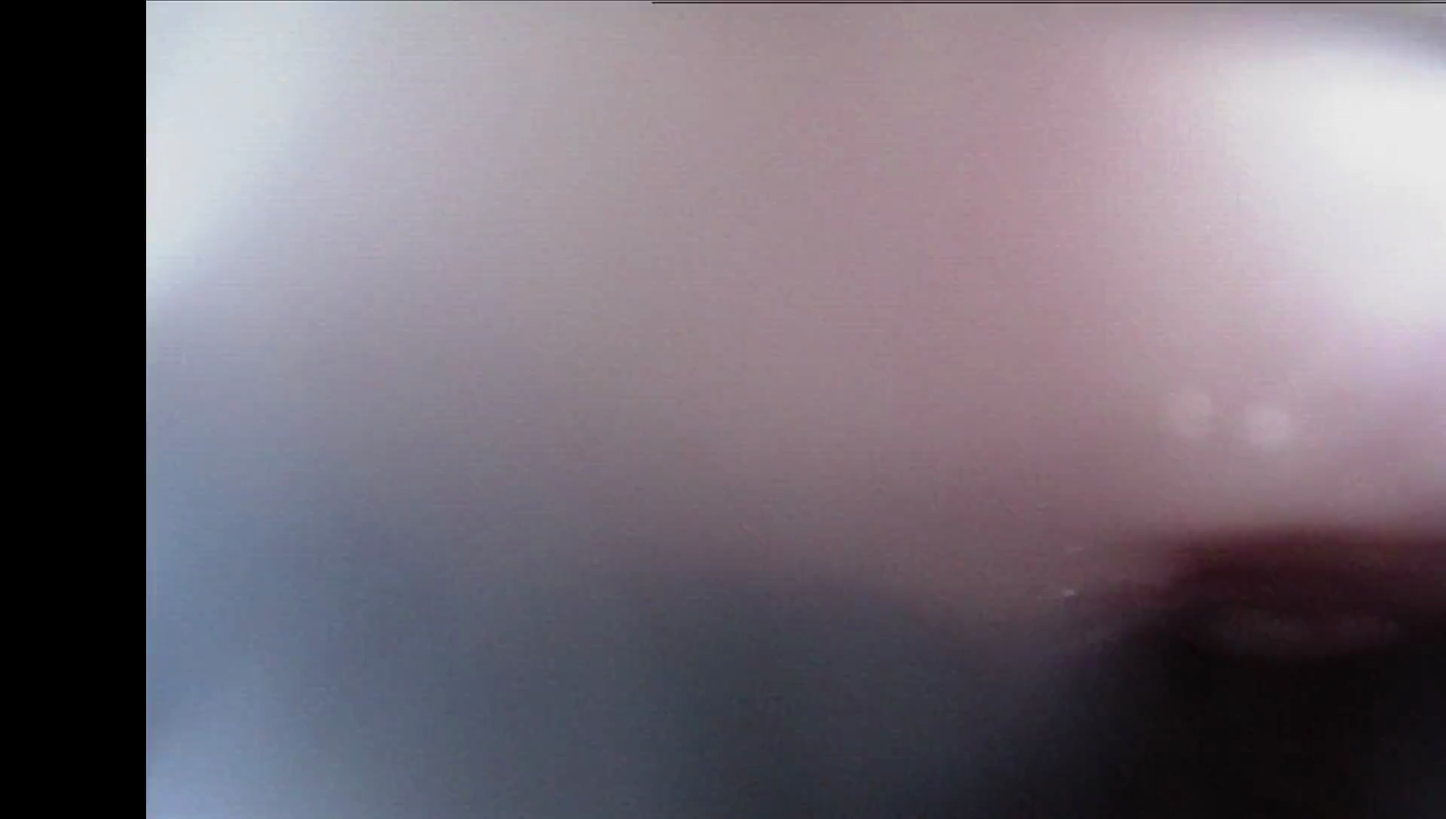close_wall: (154, 0, 1446, 513)
next: (977, 543, 1446, 819)
